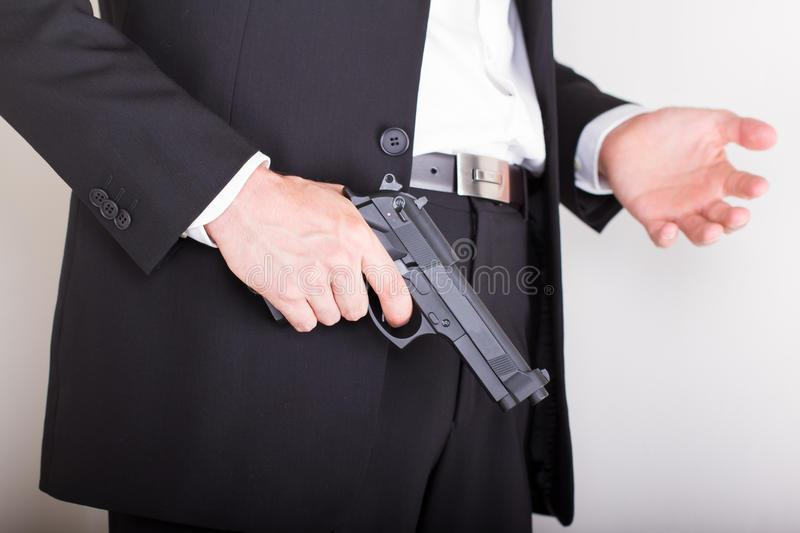weapon: (260, 170, 554, 415)
